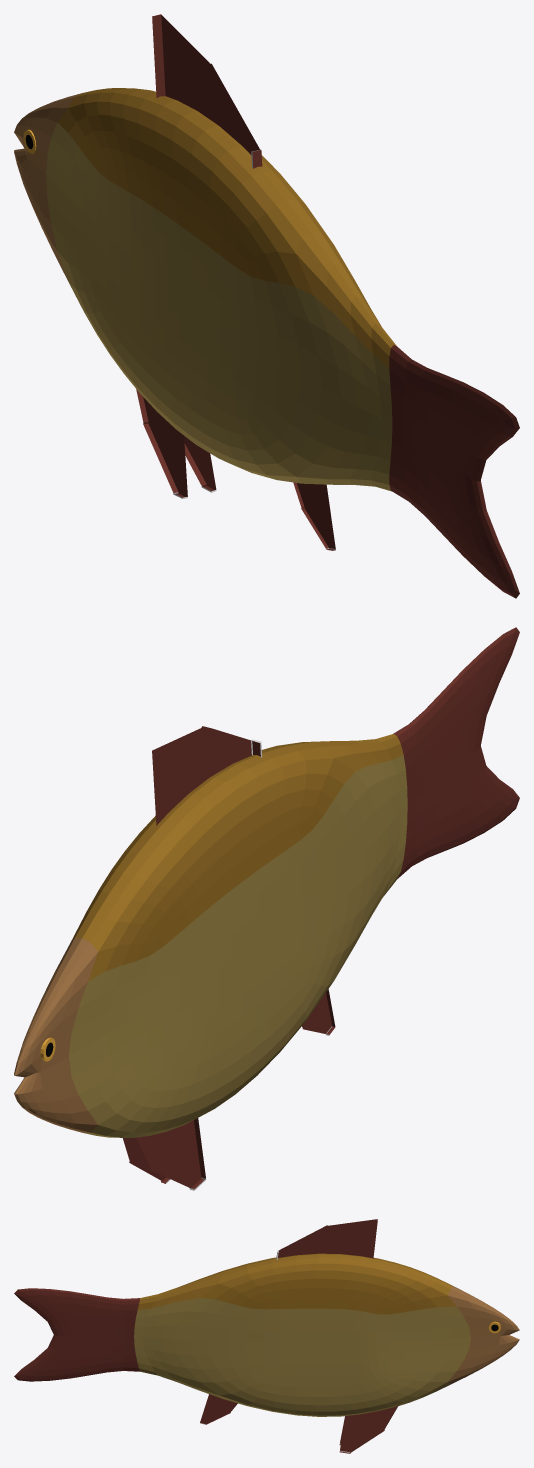
The model's file is Рыба.fbx.
3 renders of one model, top to bottom at view 1: azimuth 30°, elevation 25°; view 2: azimuth 150°, elevation 25°; view 3: azimuth 270°, elevation 25°, orthographic. The views are drawn at different scales.
Parts seen in each view (by area): view 1: Cube.004; view 2: Cube.004; view 3: Cube.004.
Part boxes in pixels (box(x1,y1,x2,y2)): Cube.004: box(14, 14, 519, 598); Cube.004: box(14, 627, 519, 1190); Cube.004: box(14, 1219, 519, 1453).
Size of the model in its own units: 6.48 by 43.16 by 86.61.
